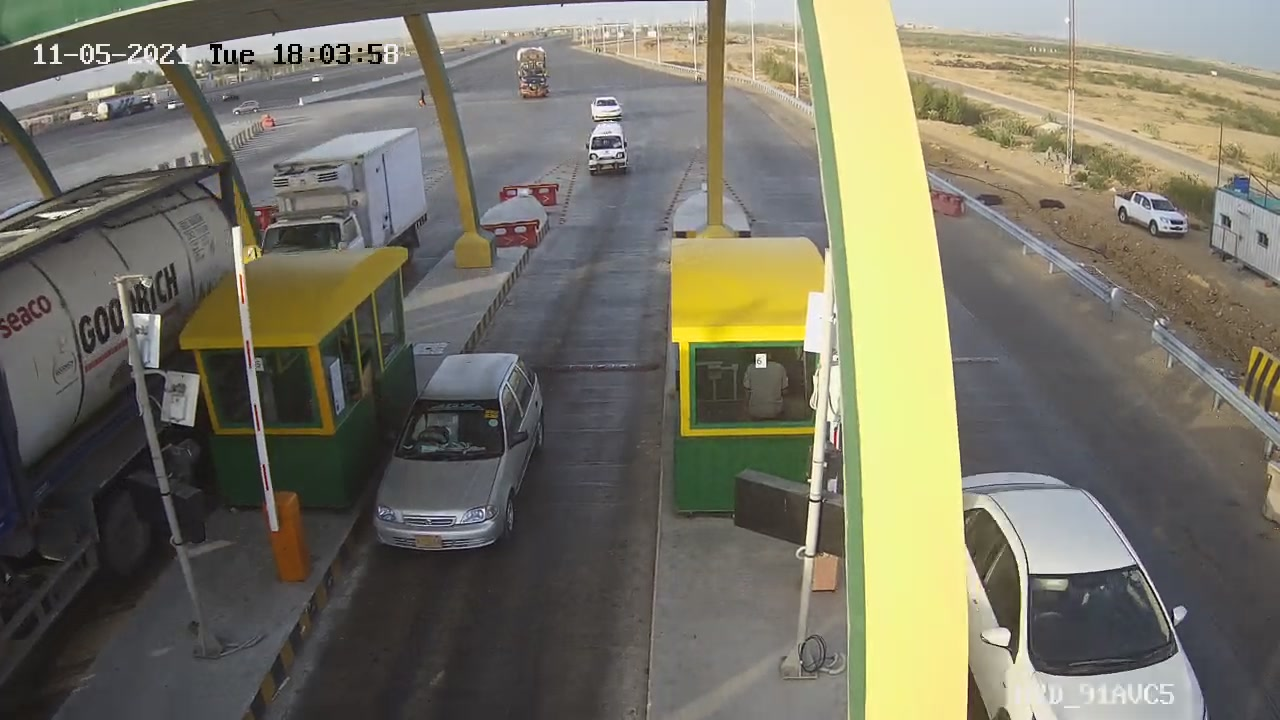F1: (355, 338, 560, 572)
